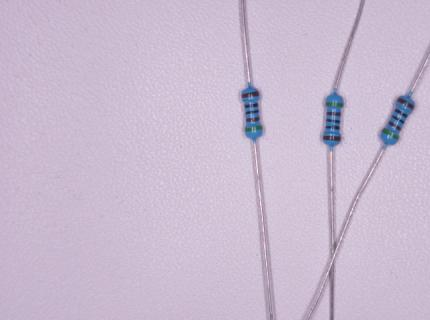Black band: (394, 108, 408, 118), (392, 115, 405, 124), (245, 103, 259, 108), (245, 110, 259, 114), (327, 119, 340, 123), (326, 126, 339, 129)
Brown band: (387, 120, 402, 132), (242, 92, 259, 98), (323, 136, 341, 141), (326, 112, 341, 117), (246, 117, 260, 122)
Green band: (381, 127, 399, 141), (245, 125, 264, 132), (326, 102, 344, 107)
